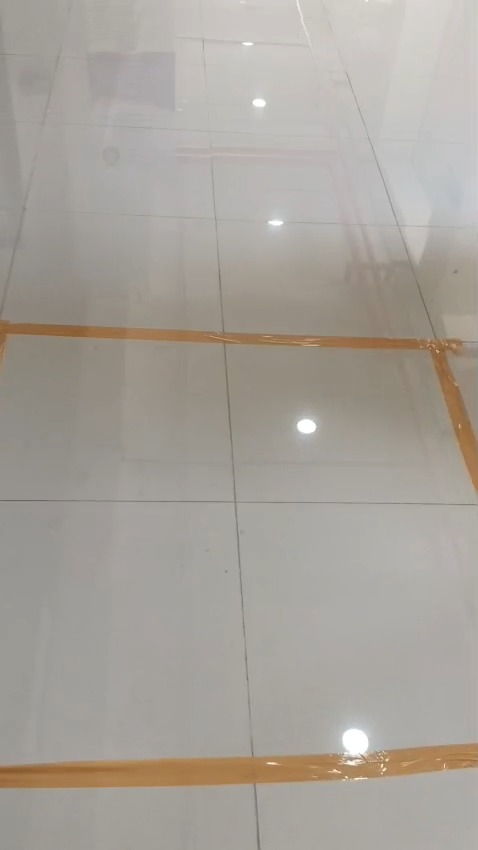floor marking: (0, 322, 477, 492), (0, 744, 477, 788)
